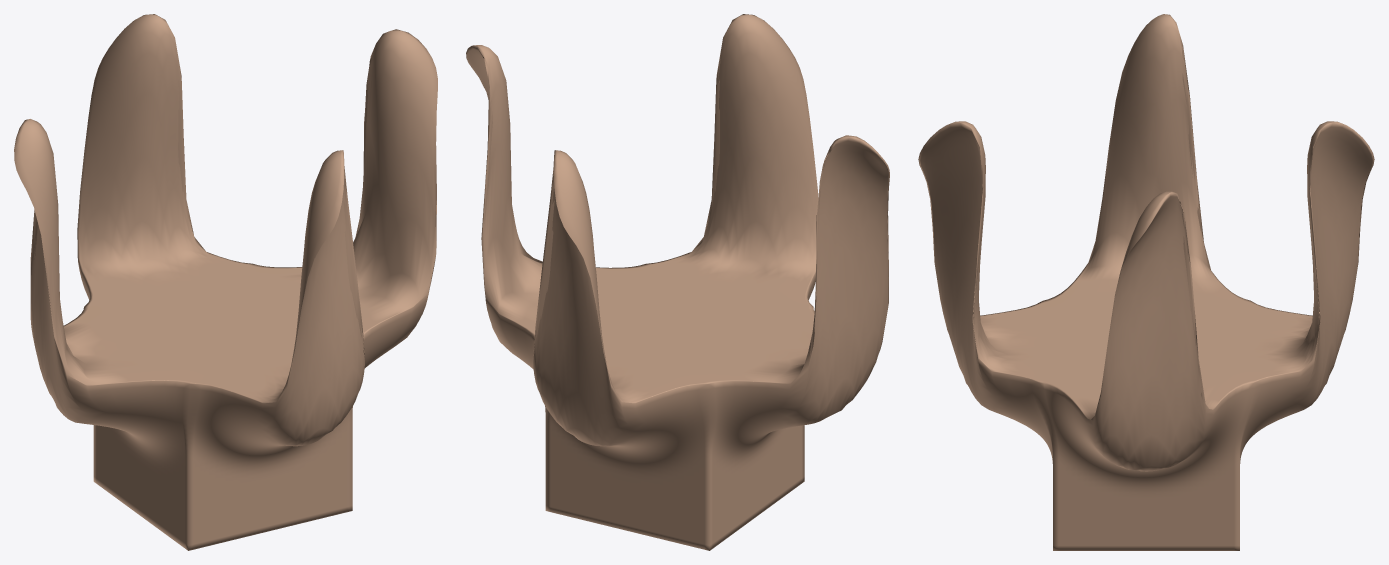
Rendered from Brazier.fbx.
3 views of the same model, side by side, from view 1: azimuth 30°, elevation 25°; view 2: azimuth 150°, elevation 25°; view 3: azimuth 270°, elevation 25° (orthographic).
Parts seen in each view (by area): view 1: cube; view 2: cube; view 3: cube.
Boxes of the visible parts, left/top/right/bottom form: cube: left=14, top=14, right=437, bottom=550; cube: left=466, top=14, right=889, bottom=550; cube: left=918, top=14, right=1374, bottom=550.
Size of the model in its own units: 383 by 361 by 366.
